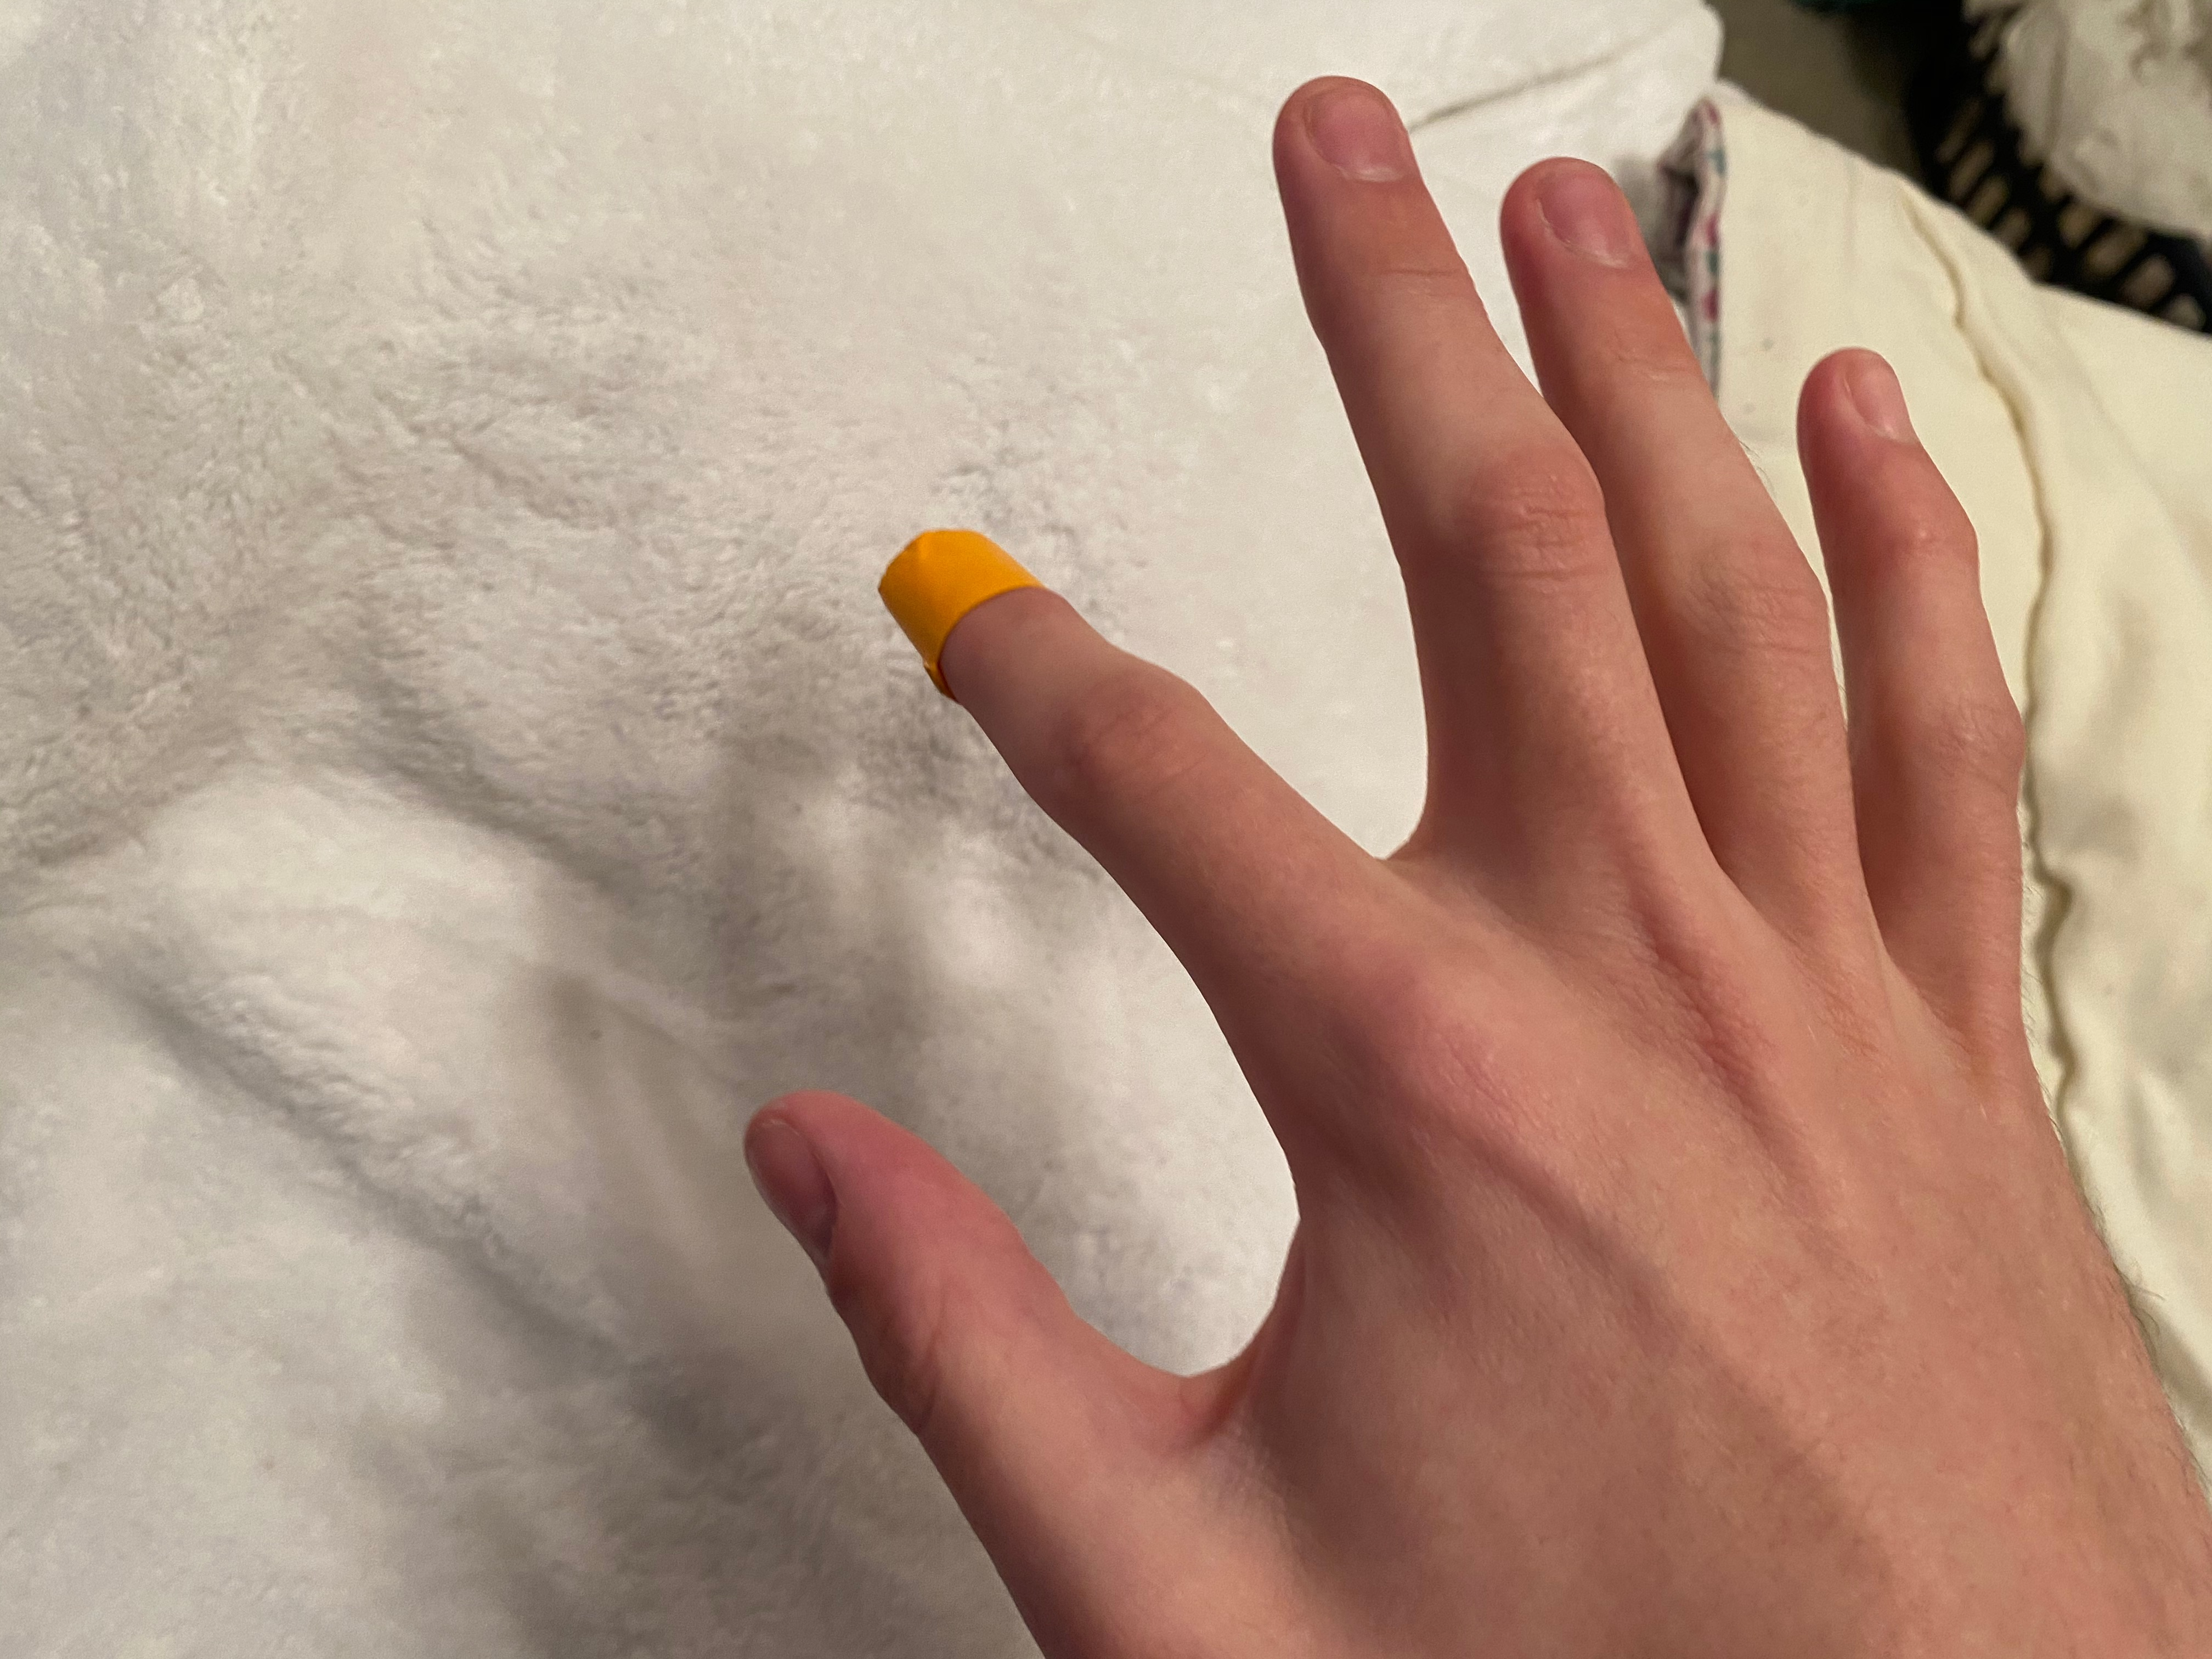fingertip: (846, 514, 1069, 678)
